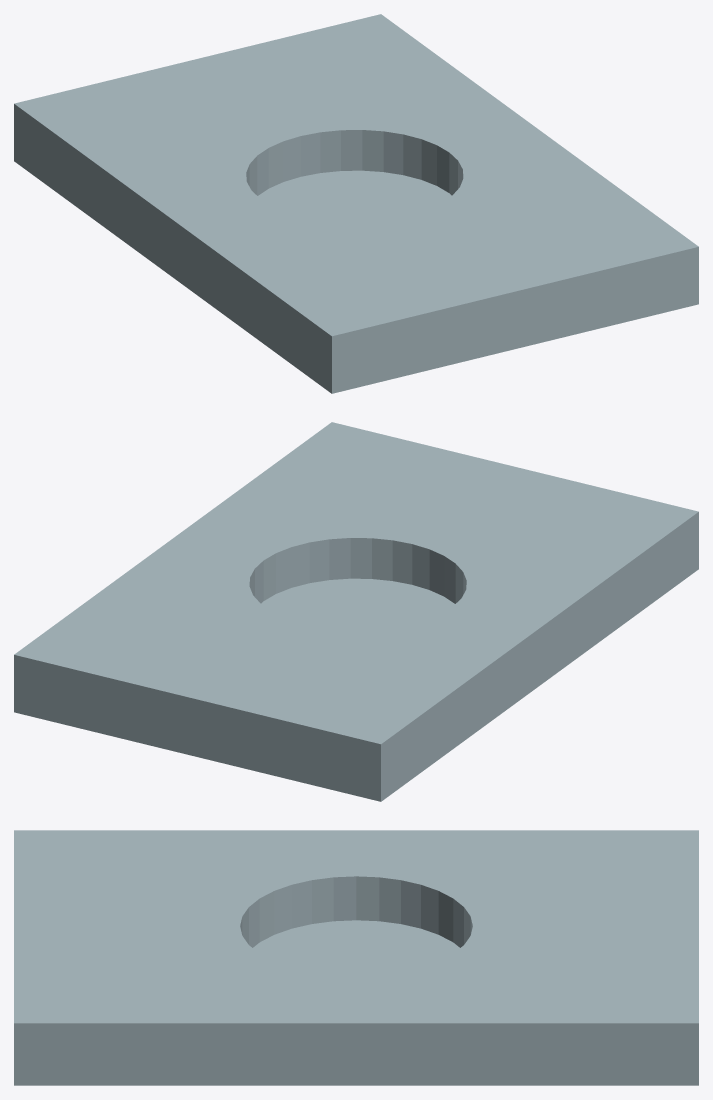
File: Ground_Hollow.fbx
3 renders of one model, top to bottom at view 1: azimuth 30°, elevation 25°; view 2: azimuth 150°, elevation 25°; view 3: azimuth 270°, elevation 25°, orthographic. The views are drawn at different scales.
Parts seen in each view (by area): view 1: Ground_Hollow; view 2: Ground_Hollow; view 3: Ground_Hollow.
Part boxes in pixels (x1,y1,x2,y2): Ground_Hollow: (14, 14, 698, 393); Ground_Hollow: (14, 422, 698, 801); Ground_Hollow: (14, 830, 698, 1085).
Bounding box in the file's own units: 667 × 100 × 1000.
